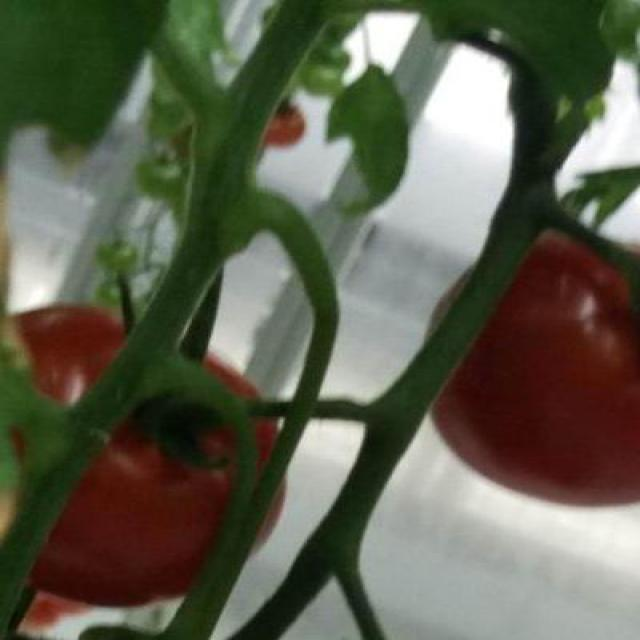tomato: (0, 306, 287, 609), (425, 232, 640, 510)
